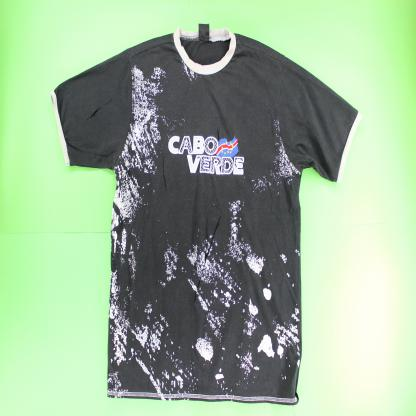hole: (192, 211, 224, 306), (84, 94, 117, 124), (162, 153, 169, 194), (216, 128, 221, 147)
